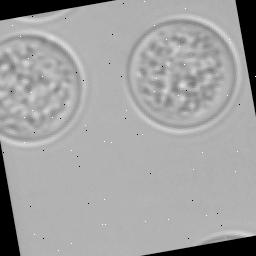picoshell: (128, 15, 242, 132), (0, 29, 88, 146), (13, 8, 74, 22), (199, 229, 256, 243)
